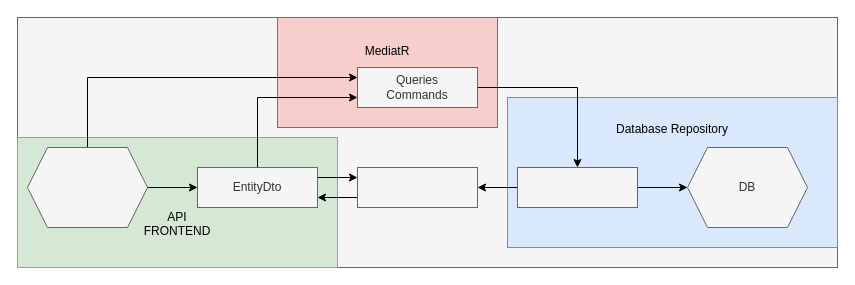
Some shapes in this 855 by 285 pixel diagram are drawn without their labels. The centre of each missing label's shape, as x and y in pixels:
"Client" goes at point (87, 187).
"Entity" goes at point (577, 187).
"Mapping Valdiator" goes at point (417, 187).
